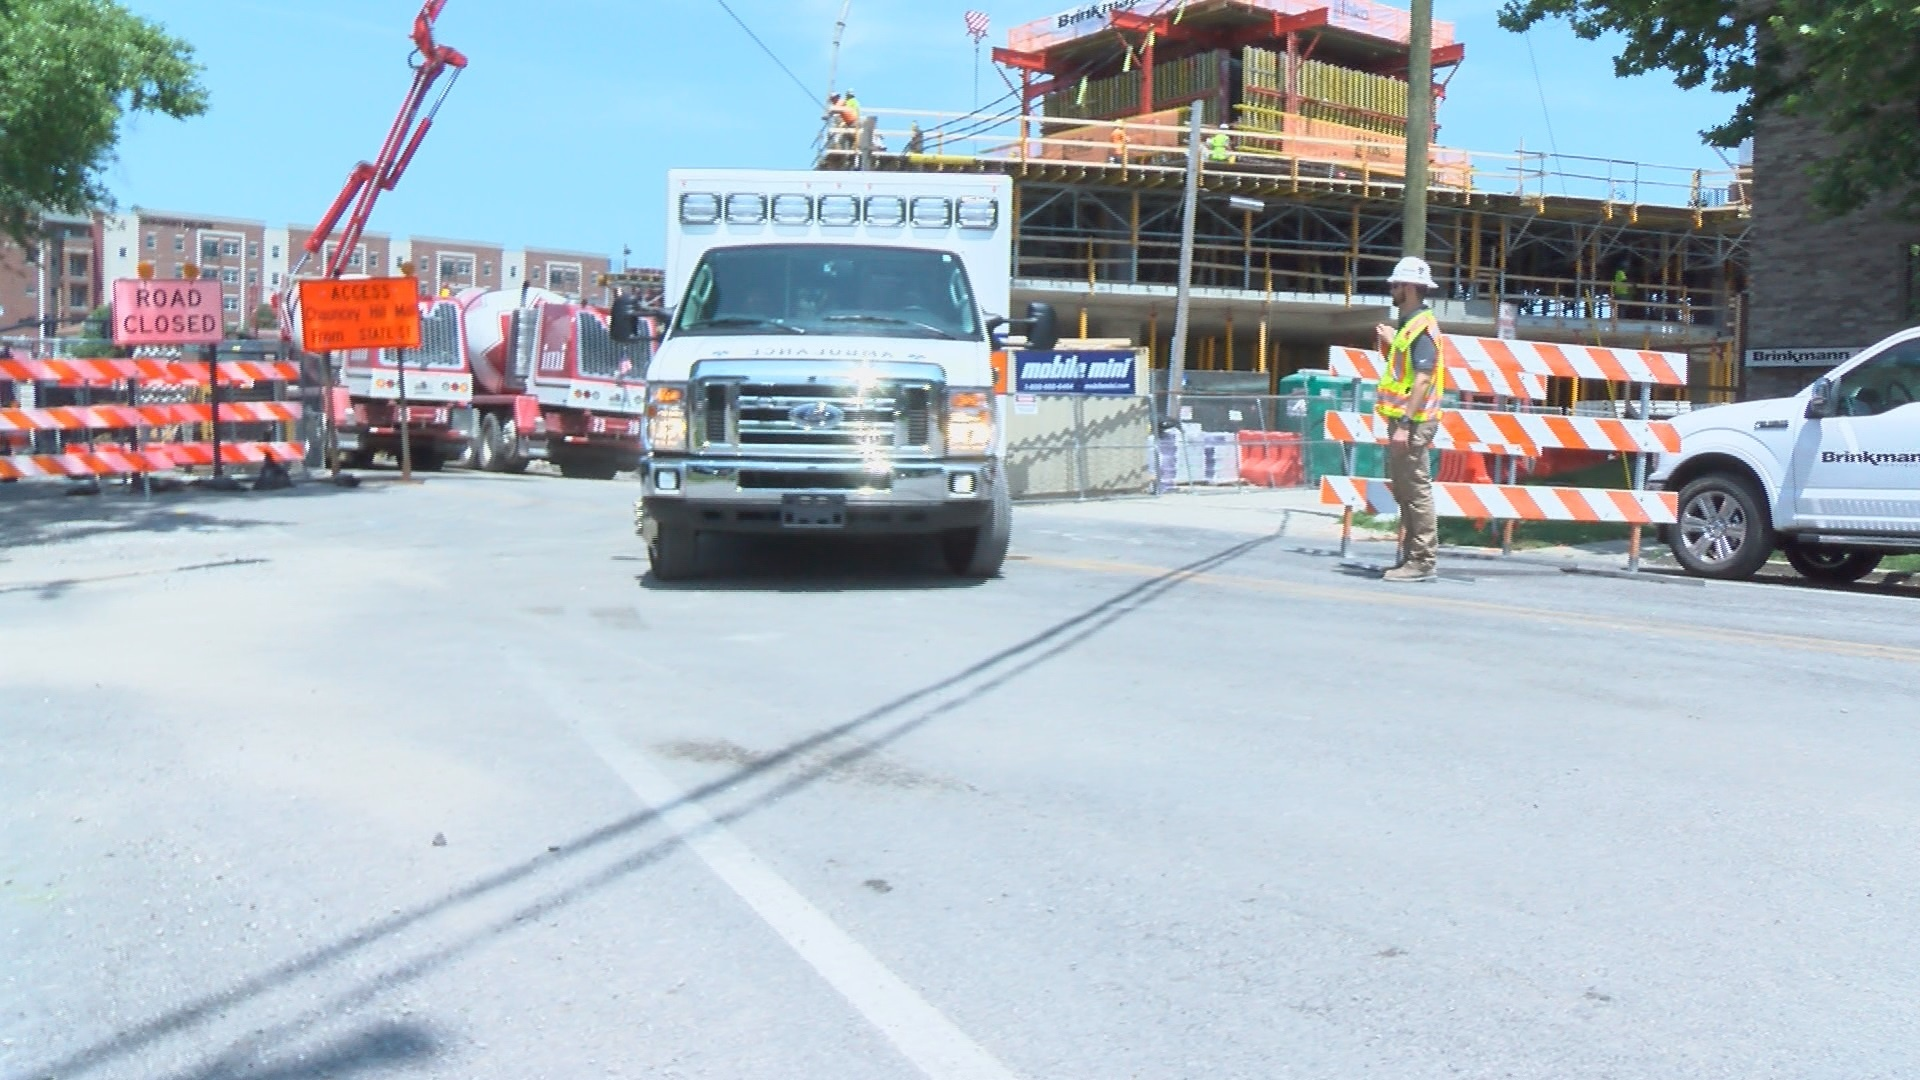white: (1387, 253, 1436, 314)
